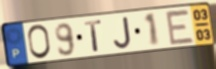1: (143, 11, 161, 48)
9: (54, 21, 77, 57)
E: (164, 8, 196, 46)
J: (113, 15, 134, 50)
O: (26, 23, 53, 60)
T: (83, 19, 104, 53)
